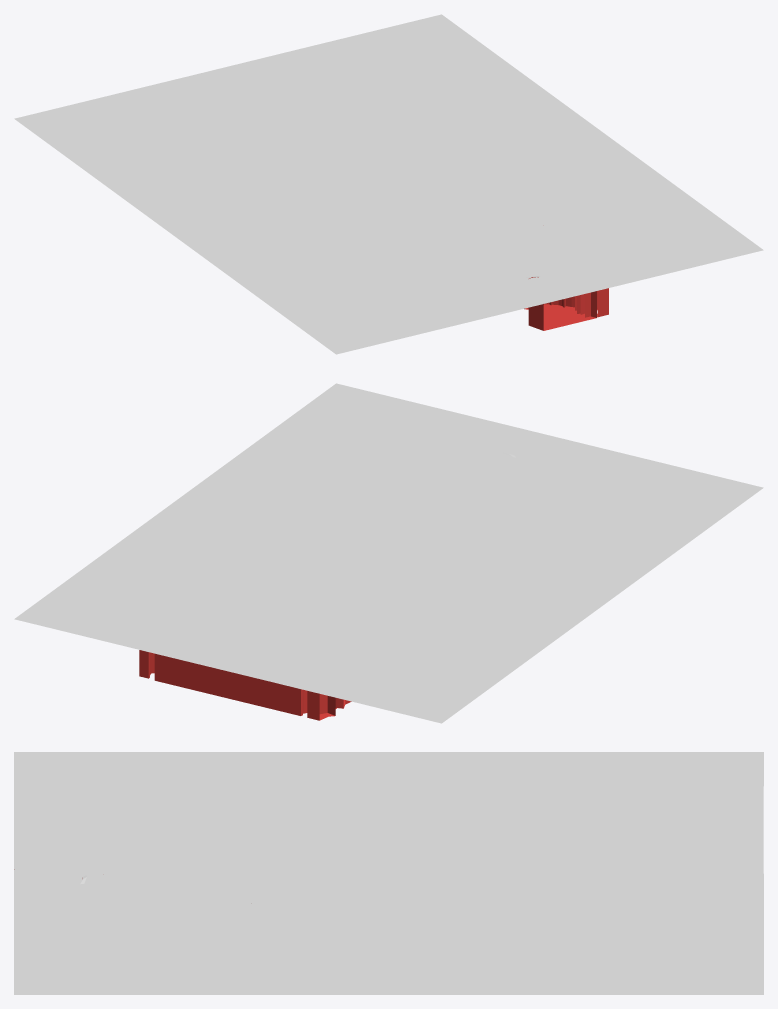
3 renders of one model, top to bottom at view 1: azimuth 30°, elevation 25°; view 2: azimuth 150°, elevation 25°; view 3: azimuth 270°, elevation 25°, orthographic. The views are drawn at different scales.
Parts seen in each view (by area): view 1: 3, 2, 1, Plane.089, Plane.087, Plane.079, Plane.093, Plane.095, Plane.084, Plane.098, Plane.090, Plane.080 (+23 smaller); view 2: 3, 2, 1, Plane.098, Plane.095, Plane.093, Plane.087, Plane.091, Plane.085, Plane.089, Plane.096, Plane.090 (+21 smaller); view 3: 3, 2, 1, Plane.086, Plane.084, Plane.097, Plane.088, Plane.095, Plane.081, Plane.100, Plane.094, Plane.092 (+36 smaller).
Part boxes in pixels (box(x1,y1,x2,y2)): 3: box(327, 14, 763, 317); 2: box(14, 94, 542, 354); 1: box(182, 53, 596, 330); Plane.089: box(233, 160, 314, 187); Plane.087: box(260, 182, 342, 198); Plane.079: box(338, 238, 420, 263); Plane.093: box(180, 125, 255, 157); Plane.095: box(161, 109, 236, 139); Plane.084: box(296, 203, 369, 234); Plane.098: box(125, 88, 201, 118); Plane.090: box(213, 153, 292, 179); Plane.080: box(327, 229, 407, 254); 3: box(14, 383, 502, 678); 2: box(307, 437, 763, 723); 1: box(154, 424, 556, 715); Plane.098: box(293, 665, 376, 687); Plane.095: box(320, 643, 402, 663); Plane.093: box(344, 628, 427, 647); Plane.087: box(411, 566, 480, 598); Plane.091: box(370, 600, 432, 633); Plane.085: box(434, 555, 517, 574); Plane.089: box(383, 589, 465, 614); Plane.096: box(311, 644, 386, 674); Plane.090: box(379, 599, 460, 625); 3: box(14, 891, 763, 994); 2: box(14, 752, 763, 880); 1: box(14, 832, 763, 911); Plane.086: box(364, 809, 426, 850); Plane.084: box(311, 809, 367, 850); Plane.097: box(661, 809, 710, 849); Plane.088: box(436, 816, 469, 854); Plane.095: box(616, 807, 668, 847); Plane.081: box(250, 811, 308, 852); Plane.100: box(731, 808, 763, 847); Plane.094: box(584, 806, 637, 847); Plane.092: box(531, 809, 600, 849).
Size of the model in its own units: 8263 by 509 by 10782.
